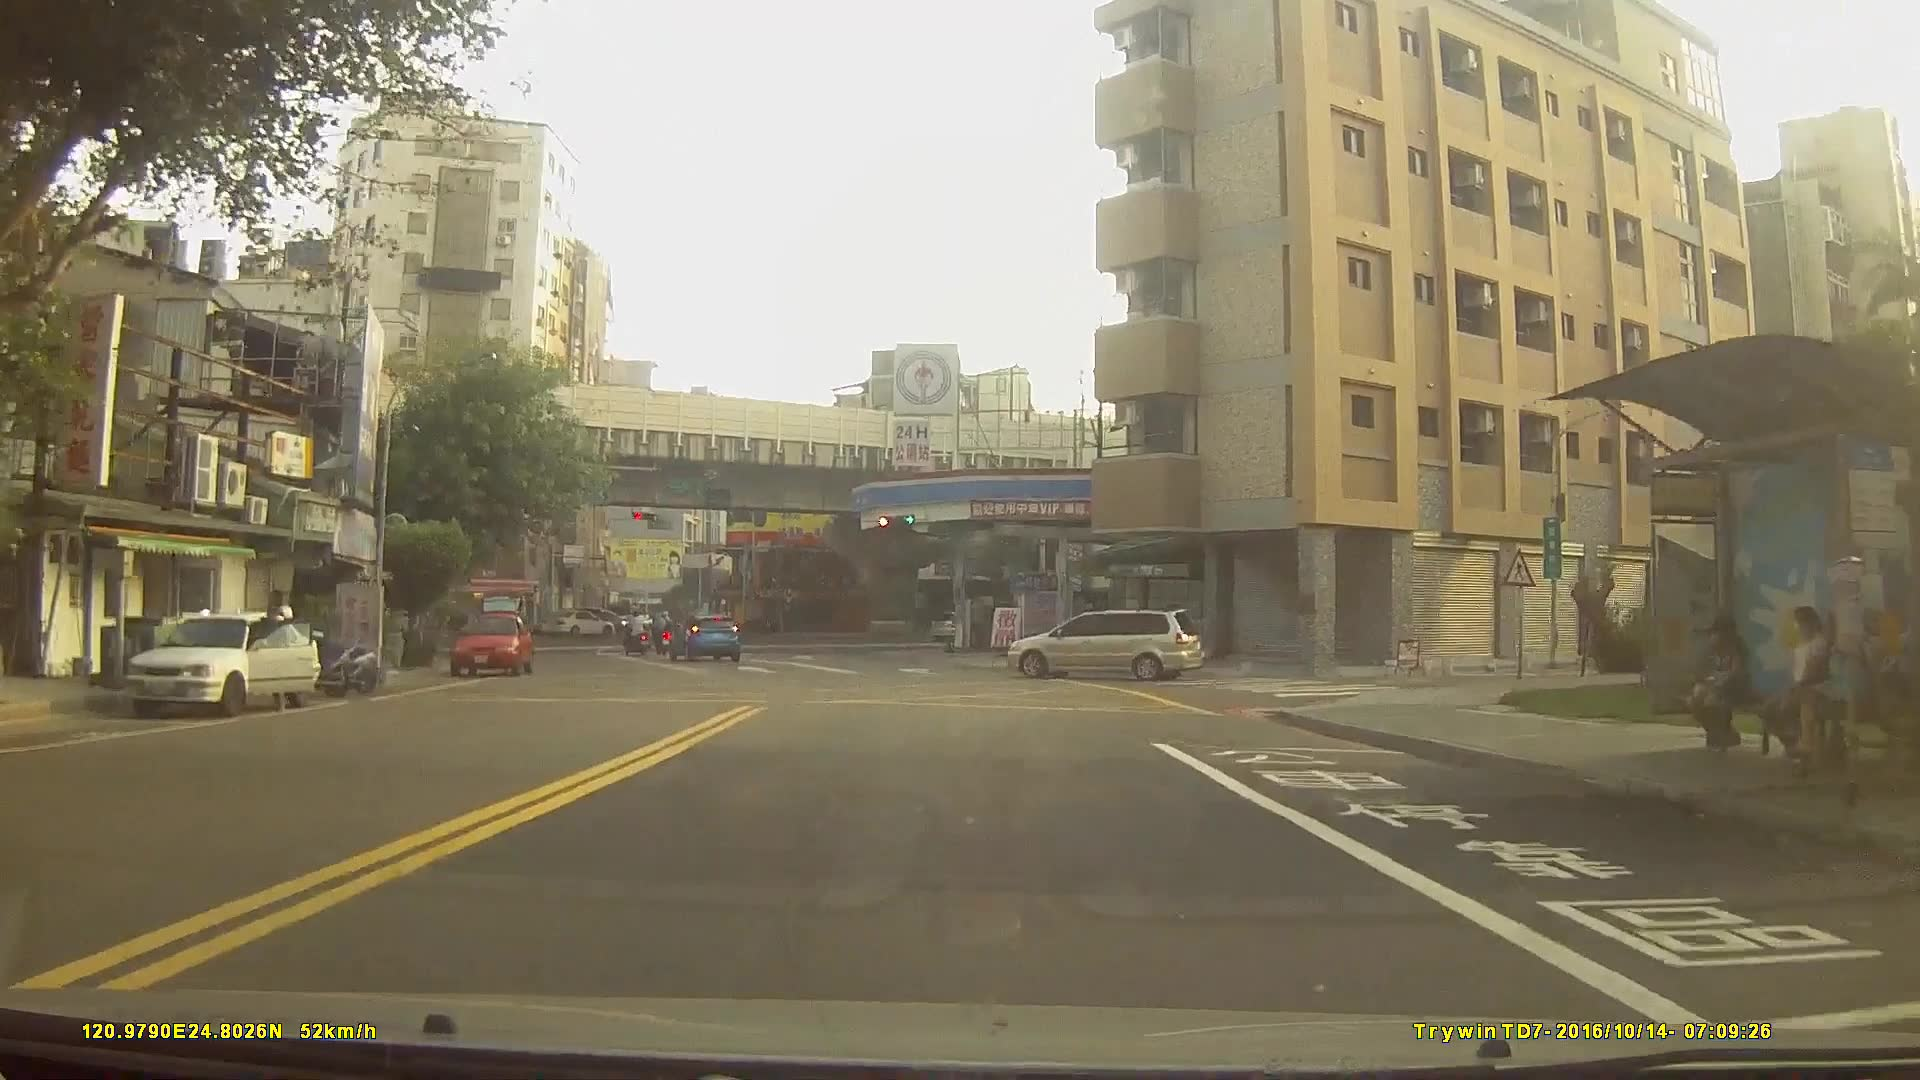pedestrian: (1695, 619, 1757, 756)
rider: (619, 610, 650, 661)
vehicle: (123, 610, 321, 720), (1004, 607, 1206, 678), (449, 612, 536, 677), (665, 613, 741, 661), (543, 608, 614, 639), (535, 607, 601, 638)
